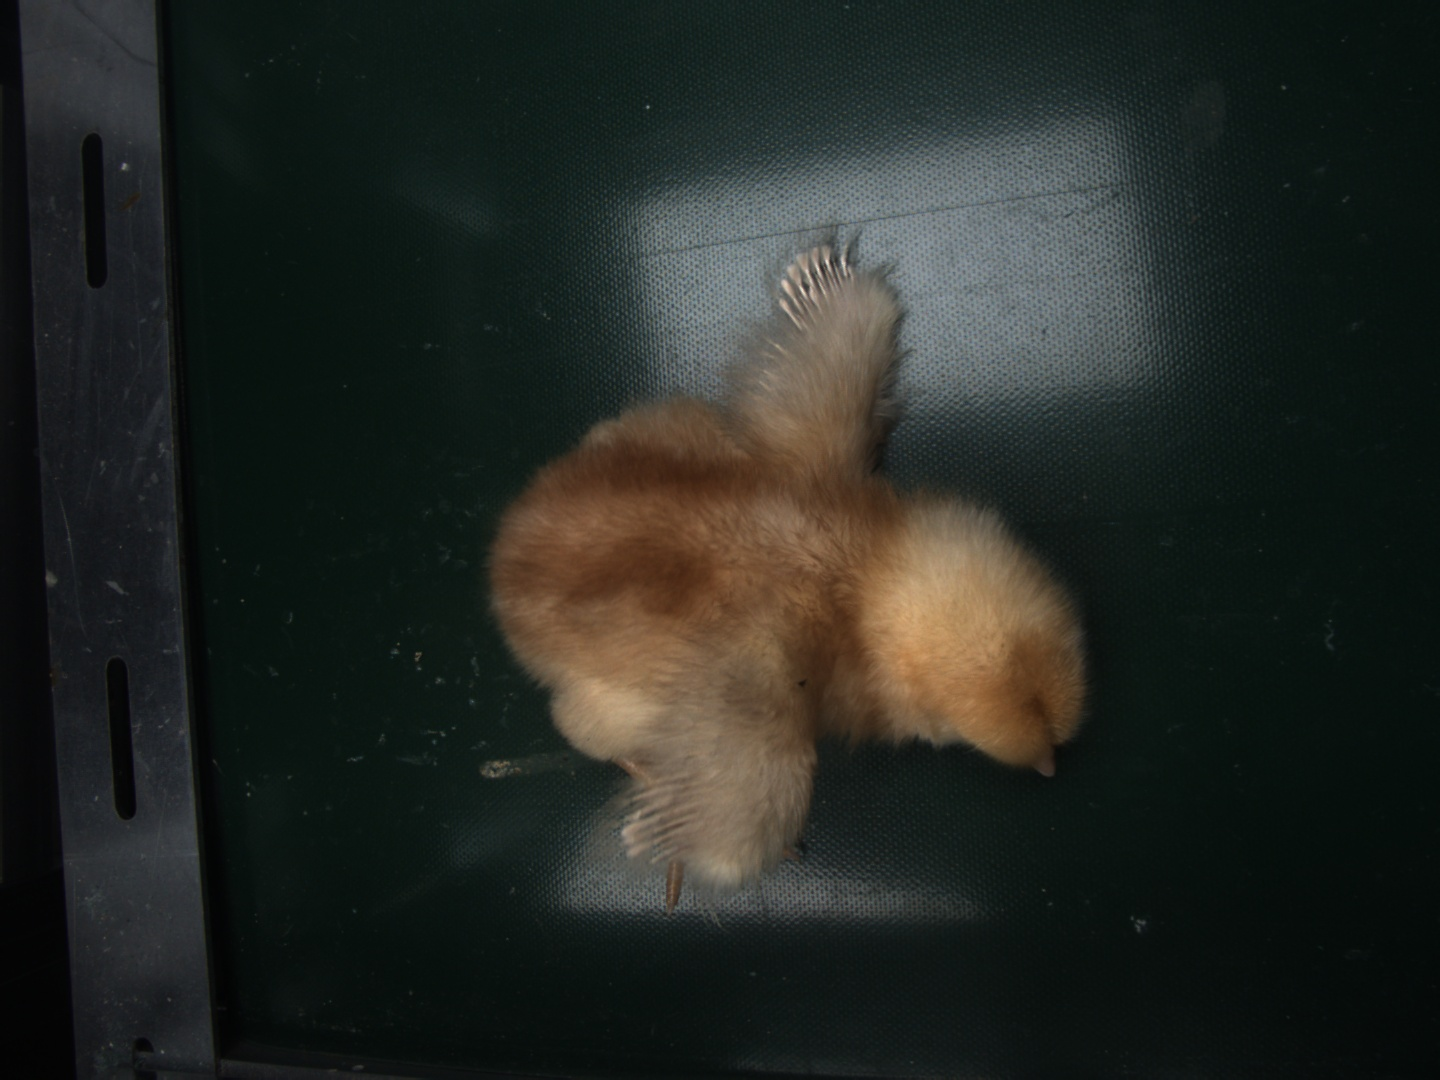female: (774, 244, 857, 324)
